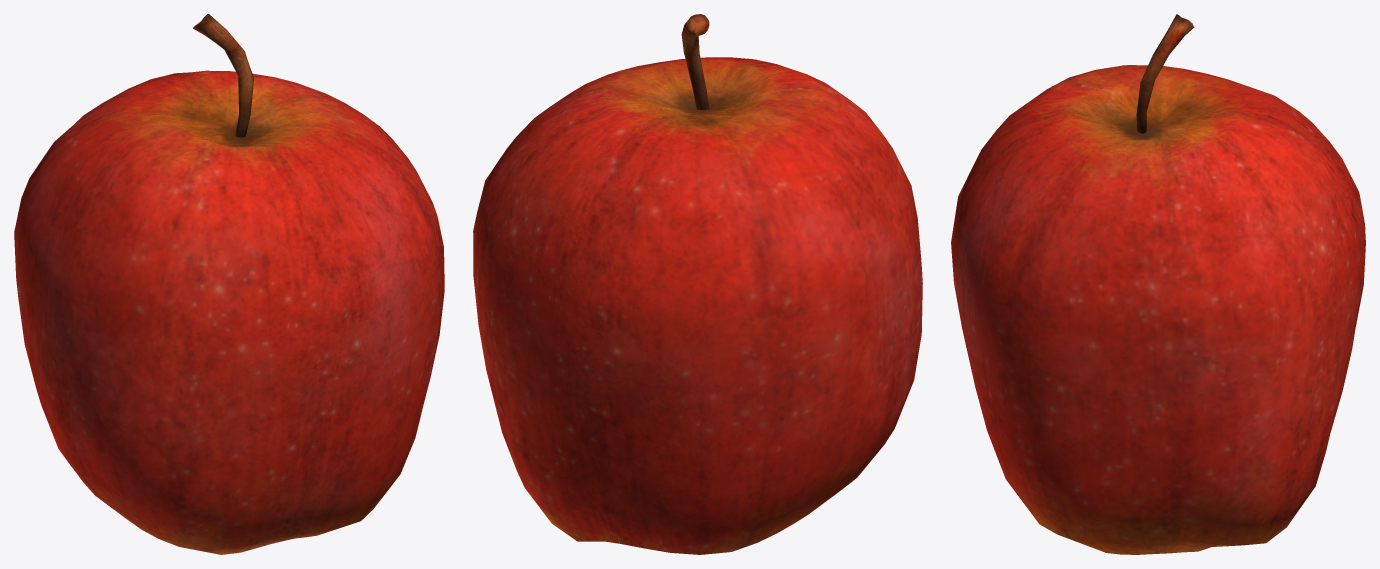
File: apple.glb
3 renders of one model, left to right at view 1: azimuth 30°, elevation 25°; view 2: azimuth 150°, elevation 25°; view 3: azimuth 270°, elevation 25°, orthographic. The views are drawn at different scales.
Parts seen in each view (by area): view 1: Base_LP, Head_LP; view 2: Base_LP, Head_LP; view 3: Base_LP, Head_LP.
Boxes of the visible parts, box(x1,y1,x2,y2) form: Base_LP: box(14, 70, 444, 554); Head_LP: box(193, 14, 253, 137); Base_LP: box(473, 57, 922, 554); Head_LP: box(681, 14, 709, 109); Base_LP: box(951, 65, 1365, 554); Head_LP: box(1136, 14, 1194, 133).
Size of the model in its own units: 0.01 by 0.0132 by 0.00998.
2 materials, 2 textured.
